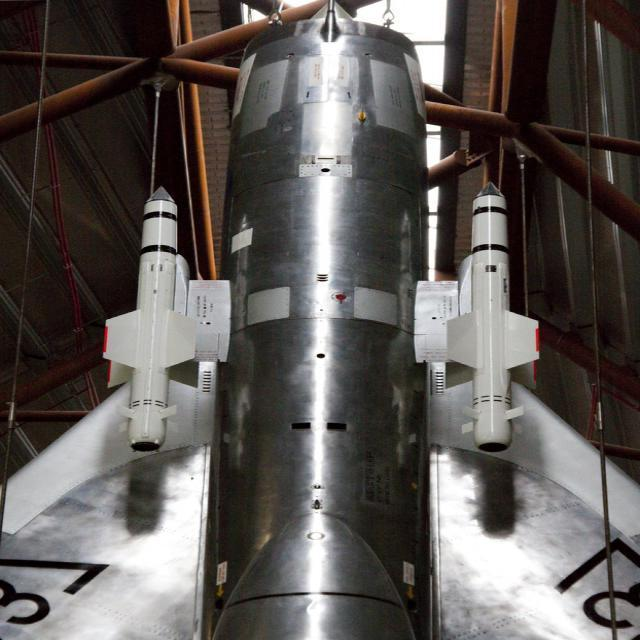missile: (466, 184, 518, 454), (132, 182, 180, 455)
